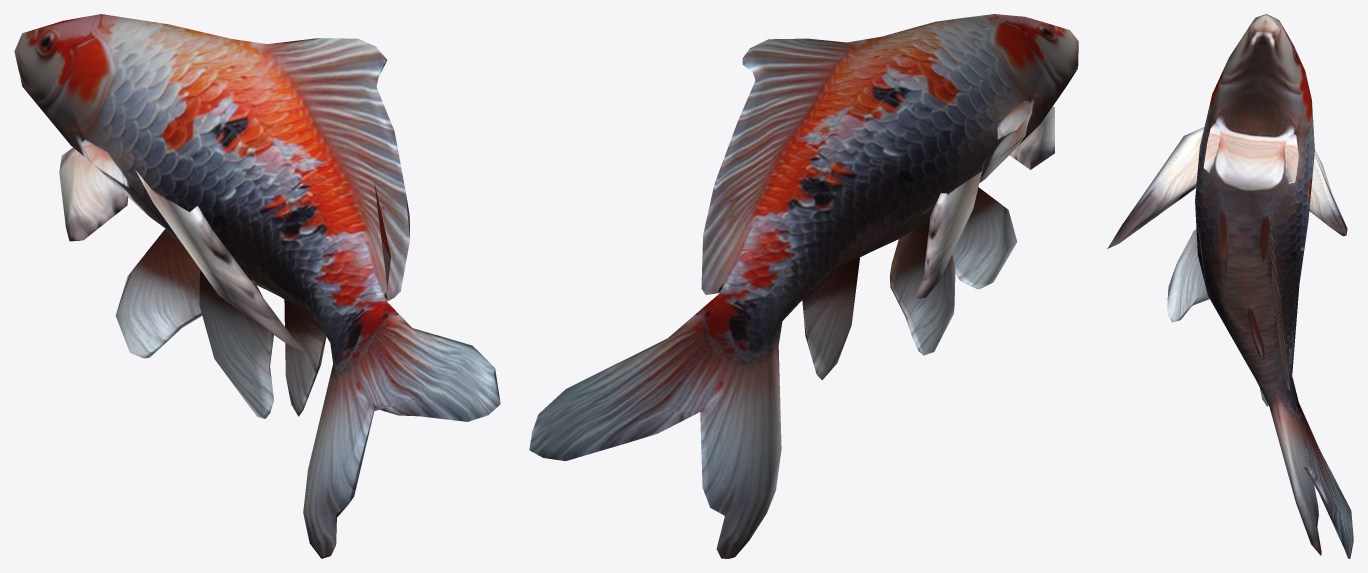
The model's file is koifish_swim_circle.glb.
3 views of the same model, side by side, from view 1: azimuth 30°, elevation 25°; view 2: azimuth 150°, elevation 25°; view 3: azimuth 270°, elevation 25° (orthographic). The views are drawn at different scales.
Visible parts, largest first — view 1: koifish; view 2: koifish; view 3: koifish.
Part boxes in pixels (bbox=[...]): koifish: bbox=[14, 14, 500, 558]; koifish: bbox=[529, 14, 1078, 558]; koifish: bbox=[1107, 14, 1353, 558].
Bounding box in the file's own units: 4.52 × 5.06 × 2.63.
1 material, 1 textured.
